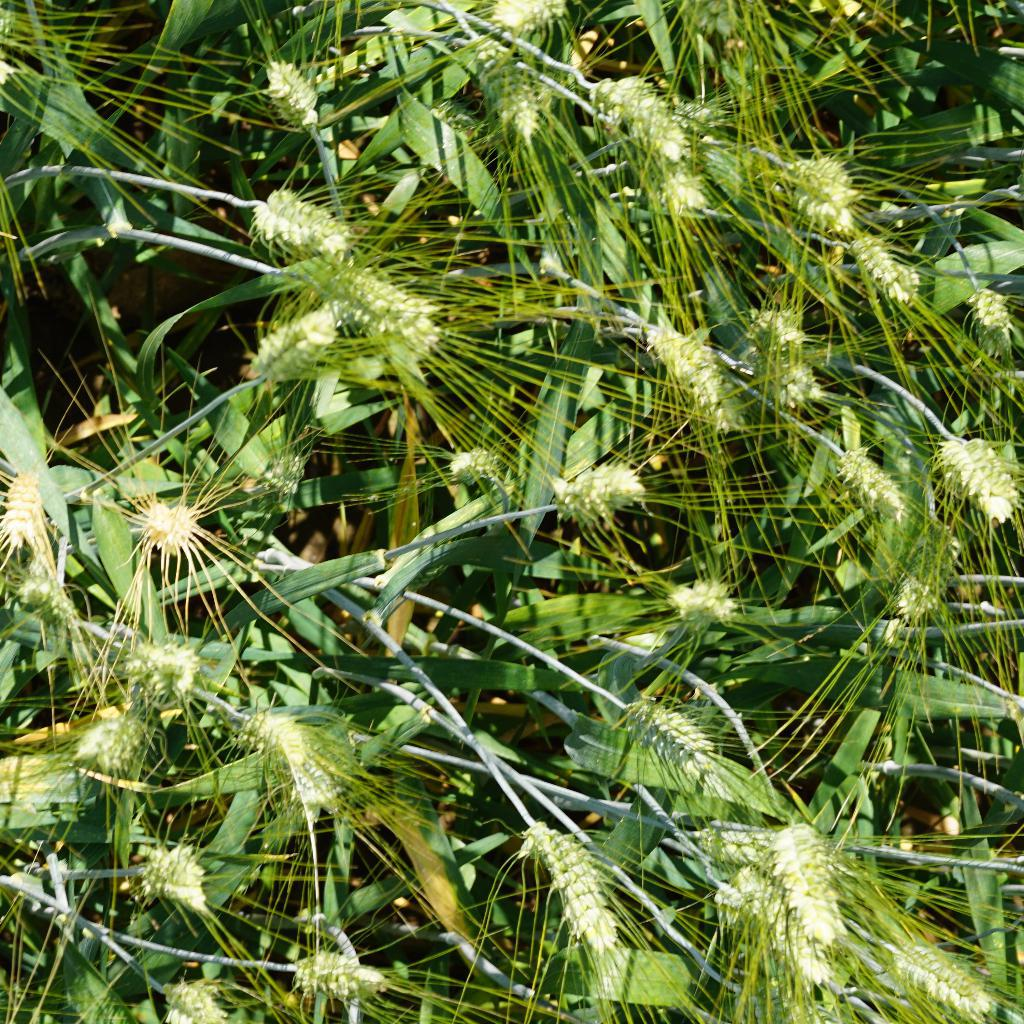0-0: (522, 811, 631, 959), (720, 859, 828, 983), (766, 807, 862, 944), (630, 314, 736, 428), (884, 524, 983, 638), (922, 428, 1024, 537), (884, 926, 998, 1019), (527, 445, 647, 530), (279, 934, 402, 1012), (306, 250, 432, 324), (245, 188, 372, 260), (238, 302, 346, 384), (473, 44, 560, 144), (276, 723, 351, 829), (752, 303, 825, 411), (623, 694, 716, 774), (604, 73, 692, 157), (830, 443, 912, 530), (778, 144, 858, 232), (262, 45, 331, 131), (127, 492, 206, 567), (661, 572, 763, 630), (855, 231, 930, 307), (137, 836, 215, 907), (149, 967, 240, 1024), (262, 436, 332, 505), (963, 271, 1019, 355), (131, 634, 201, 701), (0, 458, 48, 555), (249, 697, 310, 773), (438, 430, 511, 492), (688, 817, 769, 871), (658, 152, 710, 223), (78, 701, 133, 768), (17, 576, 75, 638), (491, 0, 577, 36)
